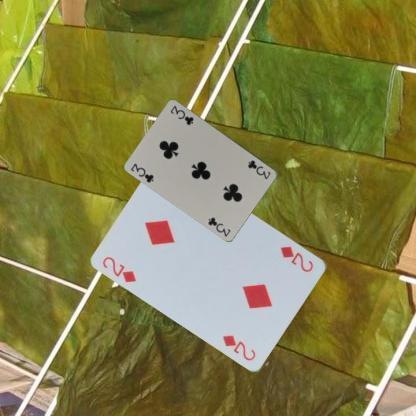2d: (278, 243, 315, 274), (100, 254, 138, 284)
3c: (128, 160, 156, 184), (245, 158, 272, 181)
